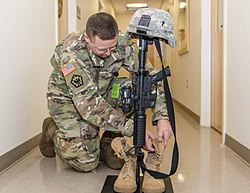gun: (126, 35, 170, 188)
